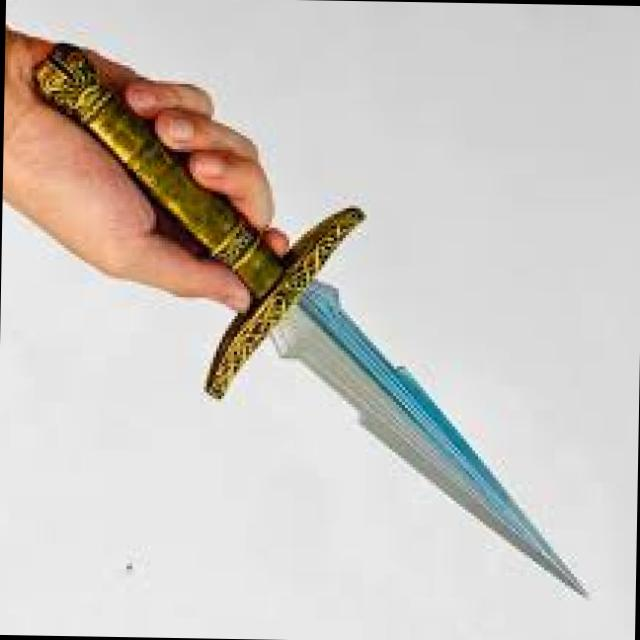Gun: (14, 46, 616, 620)
